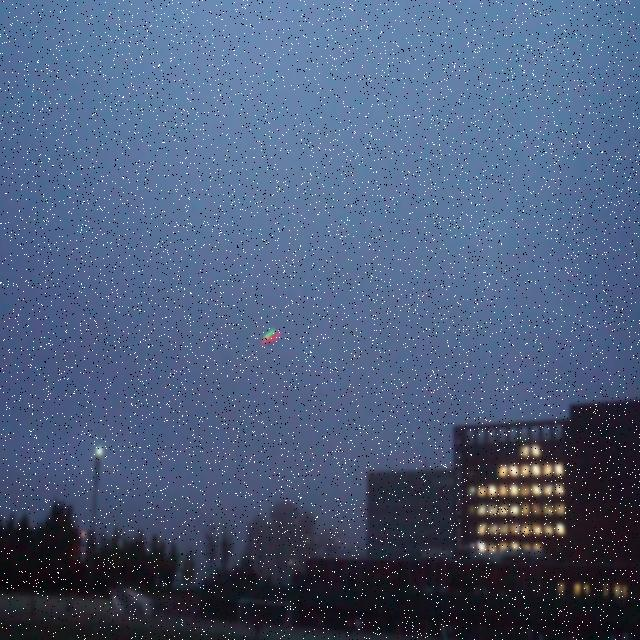UAV: (261, 328, 281, 344)
